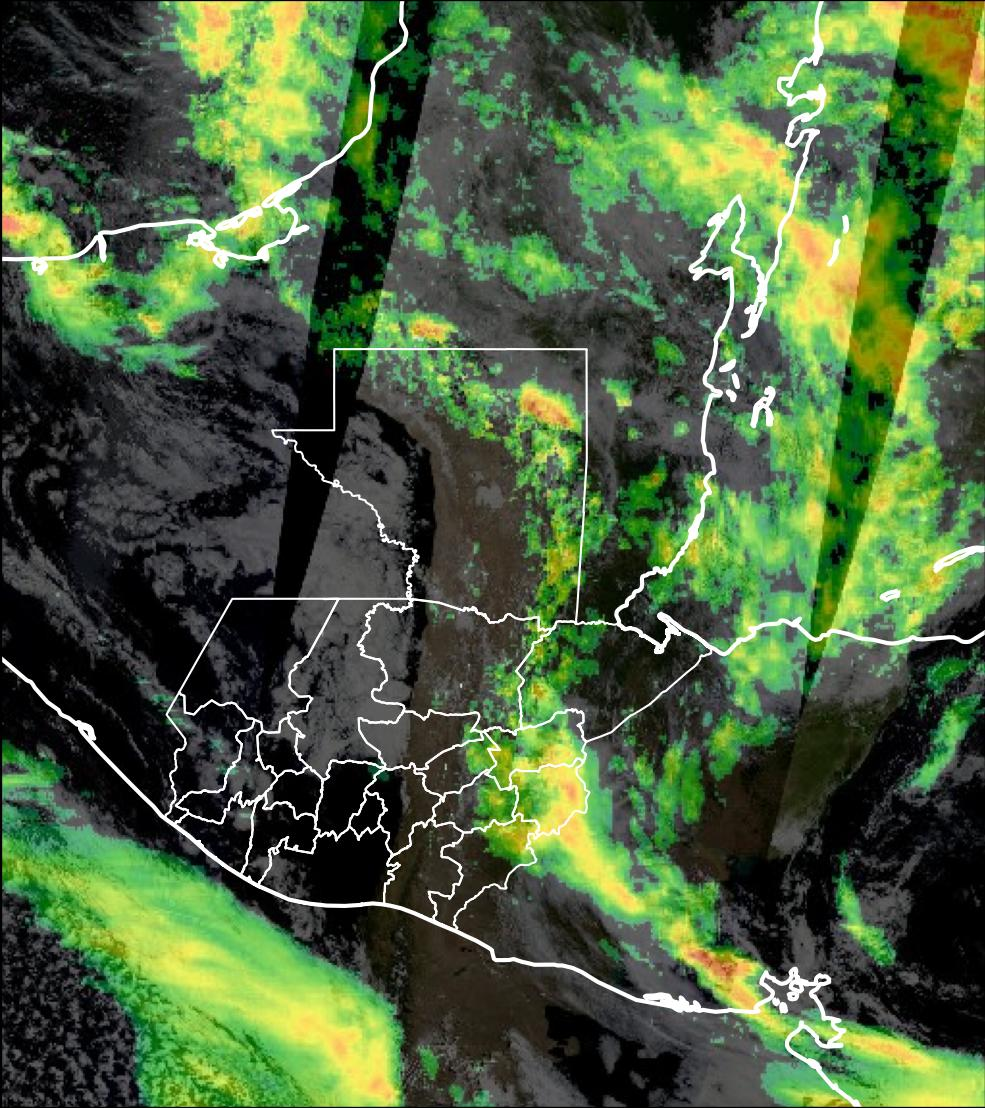precipitacion: (870, 3, 985, 124), (681, 943, 756, 1008), (1, 202, 62, 246)
